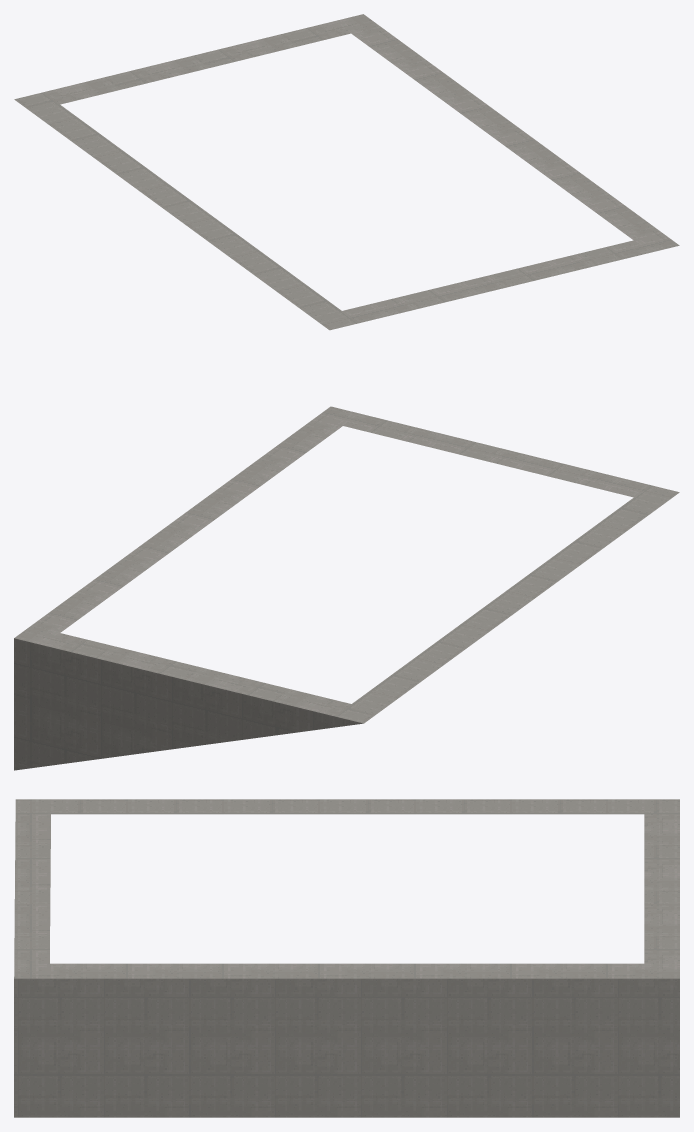
The model's file is kd_stage_1366d7_0_27.glb.
3 renders of one model, top to bottom at view 1: azimuth 30°, elevation 25°; view 2: azimuth 150°, elevation 25°; view 3: azimuth 270°, elevation 25°, orthographic. The views are drawn at different scales.
Visible parts, largest first — view 1: kd_stage_1366d7_0_27; view 2: kd_stage_1366d7_0_27; view 3: kd_stage_1366d7_0_27.
Boxes of the visible parts, left/top/right/bottom form: kd_stage_1366d7_0_27: left=14, top=14, right=679, bottom=330; kd_stage_1366d7_0_27: left=14, top=406, right=679, bottom=770; kd_stage_1366d7_0_27: left=14, top=799, right=679, bottom=1117.
Size of the model in its own units: 3.58 by 1.3 by 5.62.
Materials: 1 (1 with a texture image).
